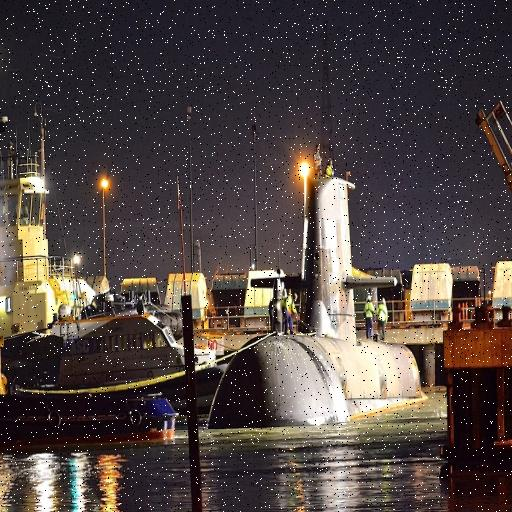submarine: (209, 176, 426, 428)
